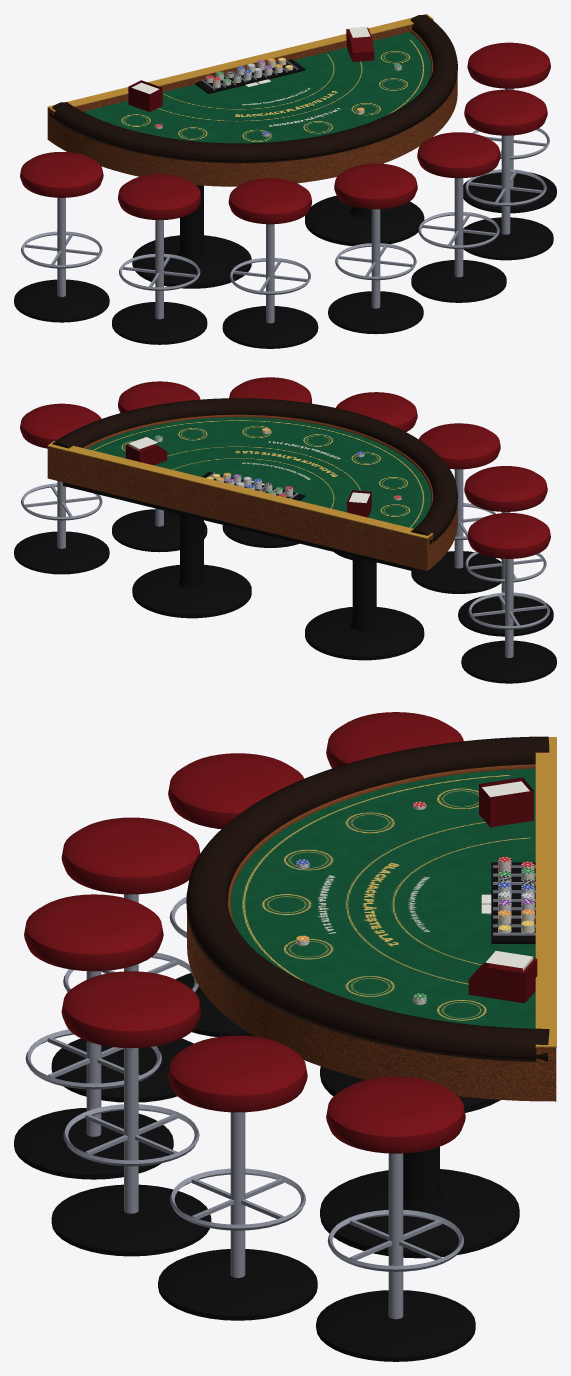
The model's file is blackjack.obj.
3 renders of one model, top to bottom at view 1: azimuth 30°, elevation 25°; view 2: azimuth 150°, elevation 25°; view 3: azimuth 270°, elevation 25°, orthographic. The views are drawn at different scales.
Visible parts, largest first — view 1: bj_masa, bj_scaun_4, bj_scaun_5, bj_scaun_1, bj_scaun_3, bj_scaun_2, bj_scaun_6, bj_scaun_7, bj_jetoane, bj_sabot; view 2: bj_masa, bj_scaun_1, bj_scaun_7, bj_scaun_2, bj_scaun_3, bj_scaun_6, bj_scaun_5, bj_scaun_4, bj_sabot, bj_jetoane; view 3: bj_masa, bj_scaun_6, bj_scaun_7, bj_scaun_5, bj_scaun_4, bj_scaun_3, bj_scaun_2, bj_sabot, bj_scaun_1, bj_jetoane.
Boxes of the visible parts, <box> form: bj_masa: <box>47,14,457,288</box>; bj_scaun_4: <box>328,163,423,334</box>; bj_scaun_5: <box>411,132,506,302</box>; bj_scaun_1: <box>14,152,109,322</box>; bj_scaun_3: <box>222,178,318,348</box>; bj_scaun_2: <box>112,174,207,344</box>; bj_scaun_6: <box>463,89,553,260</box>; bj_scaun_7: <box>463,42,556,213</box>; bj_jetoane: <box>155,57,401,136</box>; bj_sabot: <box>128,26,374,112</box>; bj_masa: <box>47,398,457,660</box>; bj_scaun_1: <box>461,513,556,683</box>; bj_scaun_7: <box>14,403,109,574</box>; bj_scaun_2: <box>458,466,553,636</box>; bj_scaun_3: <box>411,423,501,593</box>; bj_scaun_6: <box>112,381,207,552</box>; bj_scaun_5: <box>222,377,311,547</box>; bj_scaun_4: <box>334,392,417,560</box>; bj_sabot: <box>125,437,371,517</box>; bj_jetoane: <box>154,428,401,500</box>; bj_masa: <box>186,736,556,1258</box>; bj_scaun_6: <box>158,1035,317,1320</box>; bj_scaun_7: <box>316,1076,475,1361</box>; bj_scaun_5: <box>51,971,211,1256</box>; bj_scaun_4: <box>14,894,173,1179</box>; bj_scaun_3: <box>51,817,200,1102</box>; bj_scaun_2: <box>168,753,304,1036</box>; bj_sabot: <box>468,777,537,1003</box>; bj_scaun_1: <box>326,712,463,768</box>; bj_jetoane: <box>296,801,535,1004</box>.
Bounding box in the file's own units: 3.07 × 0.91 × 1.63.
Materials: 11 (3 with a texture image).
